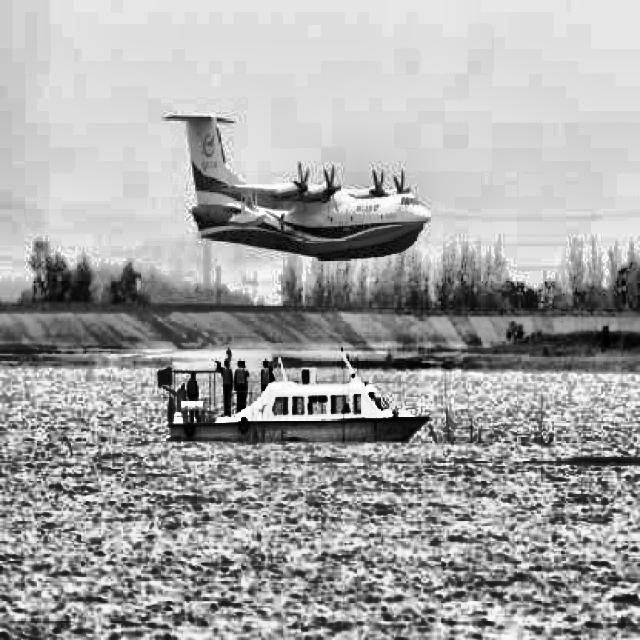AG600: (162, 112, 430, 262)
